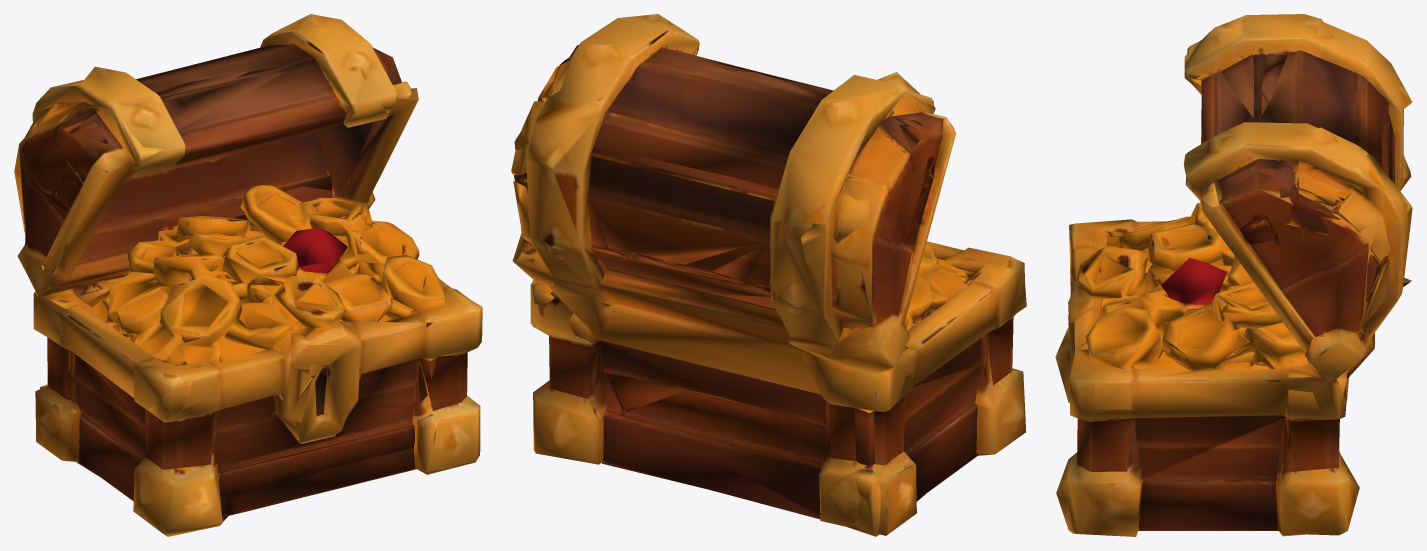
Rendered from chest_open.glb.
3 views of the same model, side by side, from view 1: azimuth 30°, elevation 25°; view 2: azimuth 150°, elevation 25°; view 3: azimuth 270°, elevation 25° (orthographic). The views are drawn at different scales.
Visible parts, largest first — view 1: Mesh_0; view 2: Mesh_0; view 3: Mesh_0.
Part boxes in pixels (left/top/right/bottom): Mesh_0: left=14, top=14, right=482, bottom=536; Mesh_0: left=511, top=14, right=1026, bottom=536; Mesh_0: left=1055, top=14, right=1412, bottom=536.
Bounding box in the file's own units: 0.9001 × 0.9476 × 0.7953.
1 material, 1 textured.
